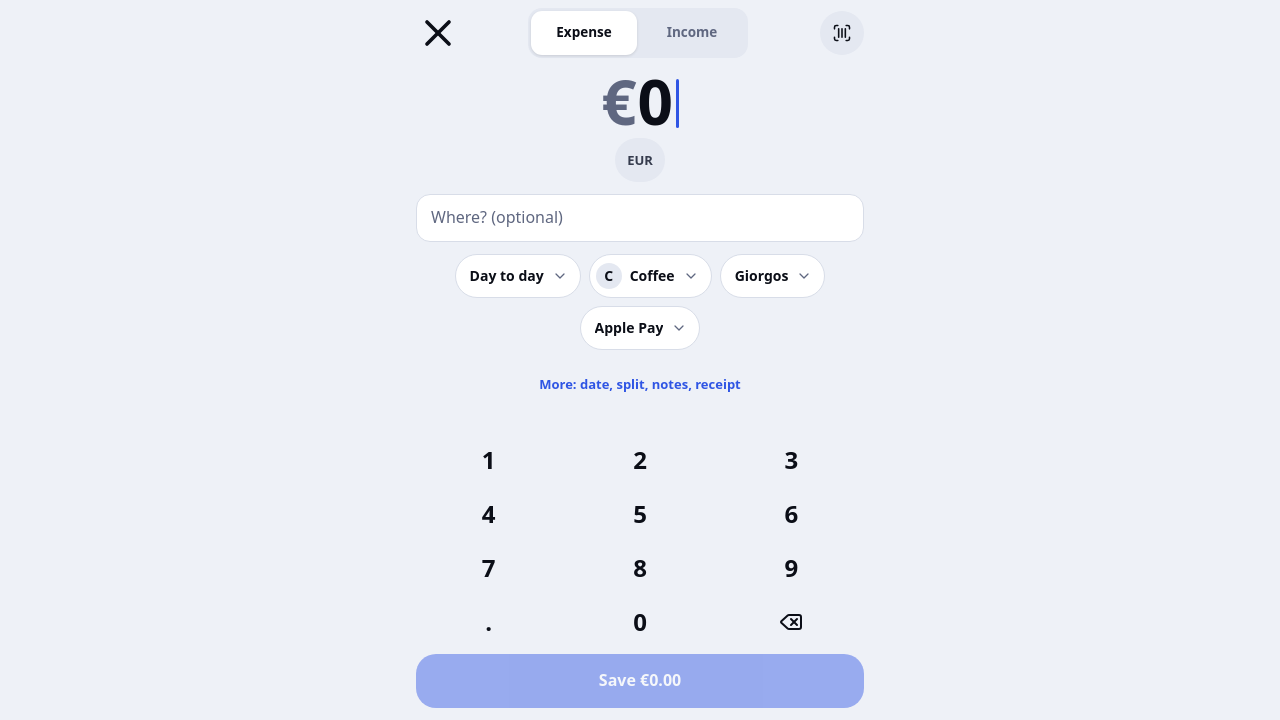
Scenario: after a new expense saves with ticked items, it offers to add them to the pantry
Click the button "3" at (791, 460), box [719,436,864,484]
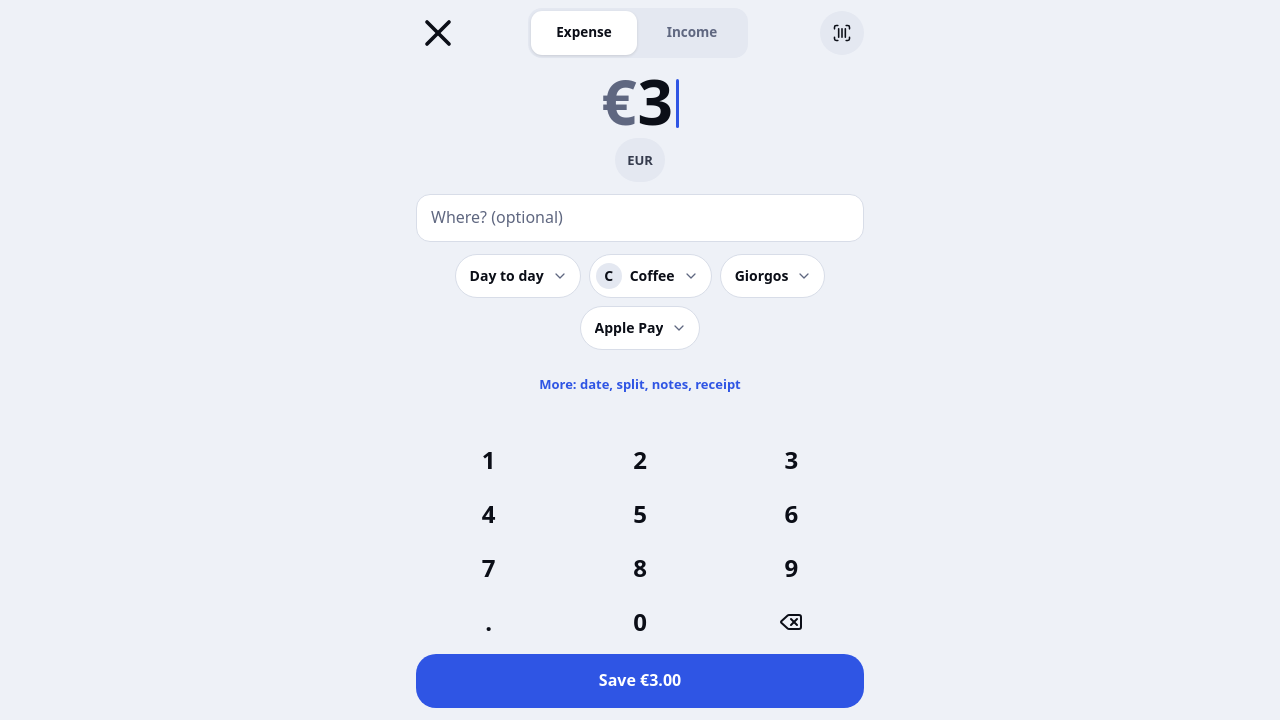
Click the button with aria-label "Save 3 euro to Day to day" at (640, 681), box [416,654,864,708]
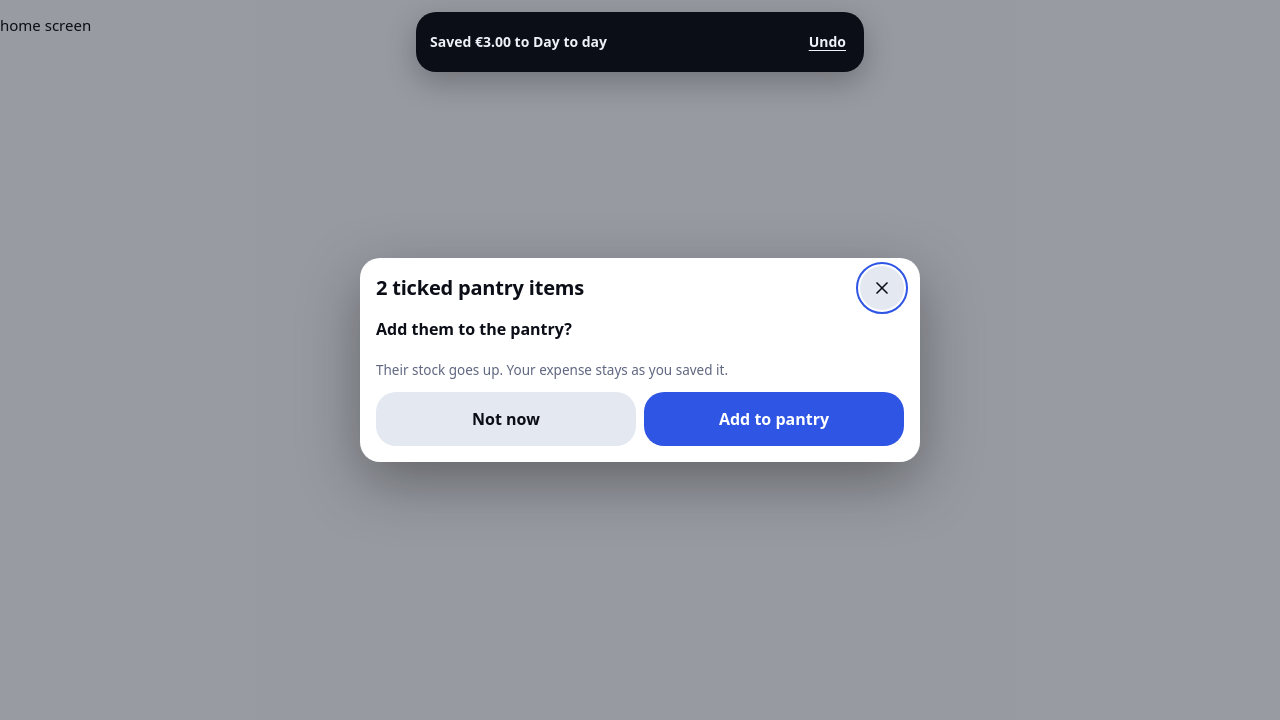
Check: the text "home screen" is shown, box [0,15,91,35]
Check: the dialog "2 ticked pantry items" shows "Add them to the pantry?", box [376,318,572,340]
Check: the text "Saved €3.00 to Day to day" is shown, box [430,32,607,51]
